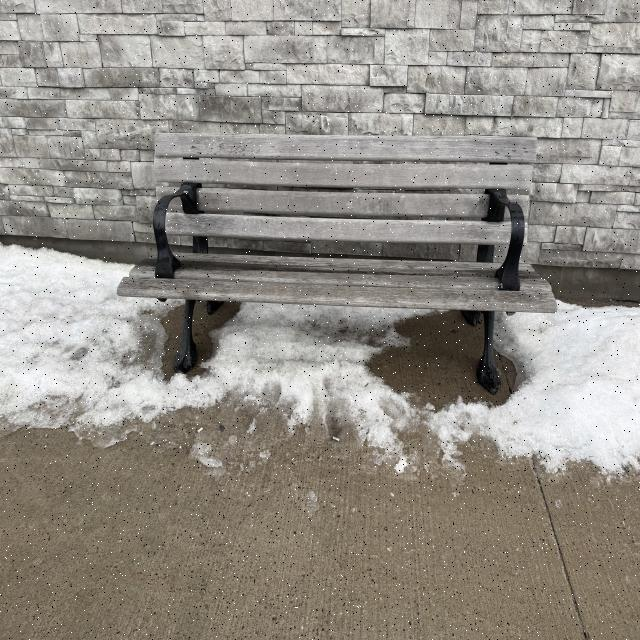Bench: (106, 134, 556, 389)
